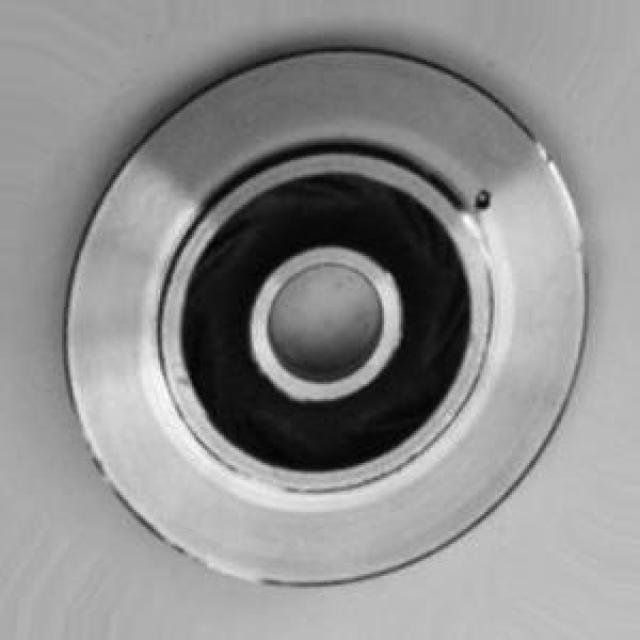Defect: (464, 183, 498, 214)
